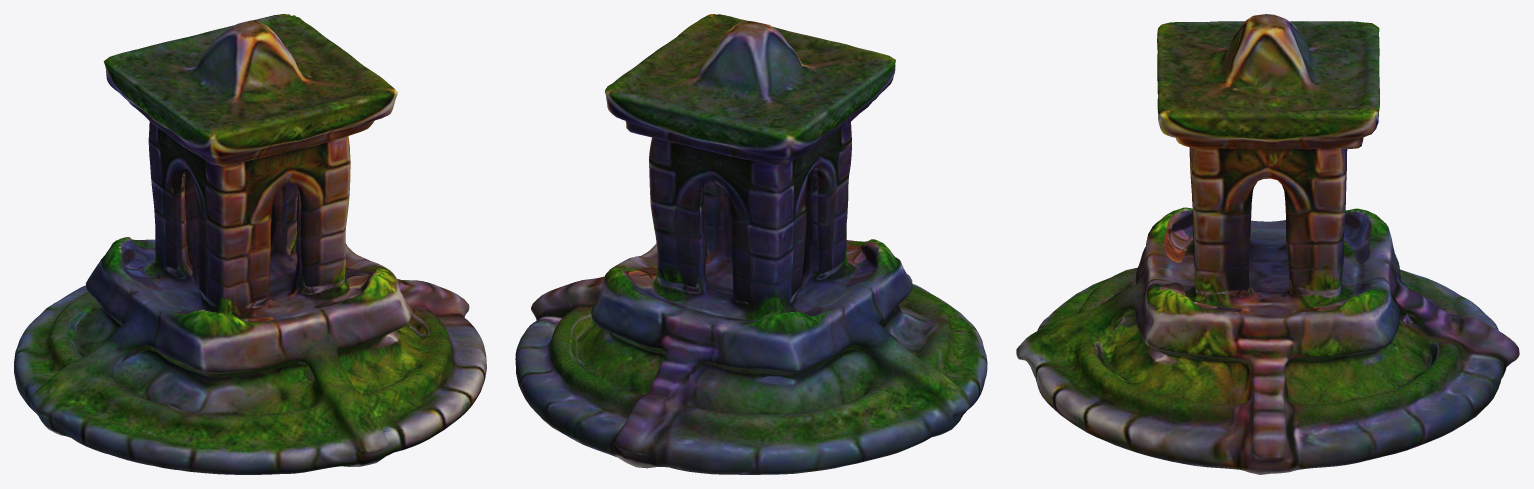
The model's file is 1d427bfb4f5e_stylized_low_poly_s.fbx.
The picture shows the model from 3 angles, left to right: view 1: azimuth 30°, elevation 25°; view 2: azimuth 150°, elevation 25°; view 3: azimuth 270°, elevation 25°; orthographic projection.
Visible parts, largest first — view 1: mesh; view 2: mesh; view 3: mesh.
Boxes of the visible parts, <box> form: mesh: <box>14,14,486,474</box>; mesh: <box>515,14,987,474</box>; mesh: <box>1016,14,1519,474</box>.
Bounding box in the file's own units: 98.75 × 78.13 × 99.36.
